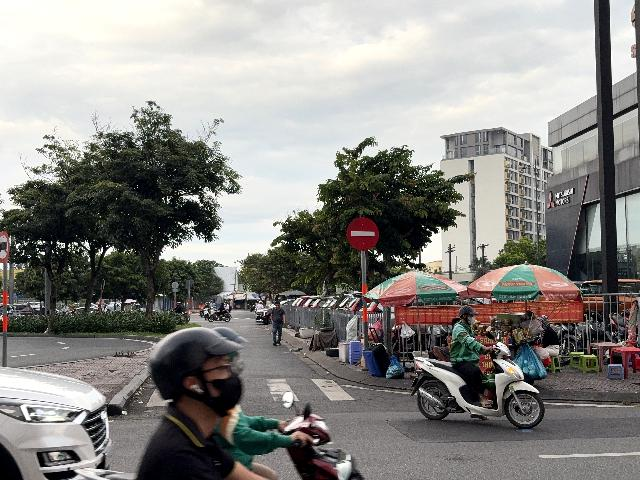cam-di-nguoc-chieu: (346, 216, 378, 251)
